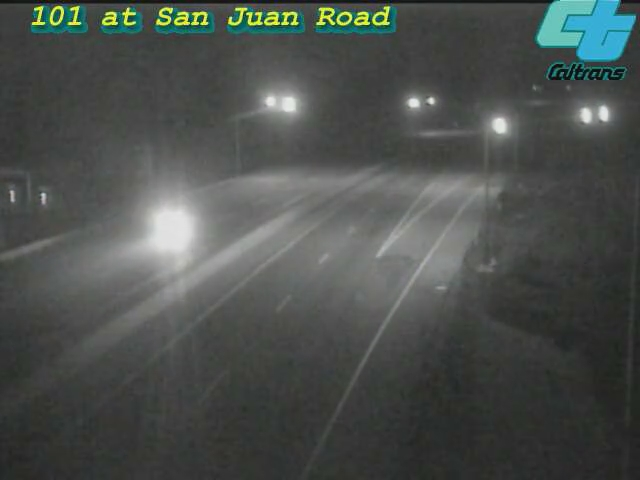vehicle: (127, 190, 207, 270), (472, 101, 522, 151), (558, 91, 608, 141), (578, 90, 628, 140)
